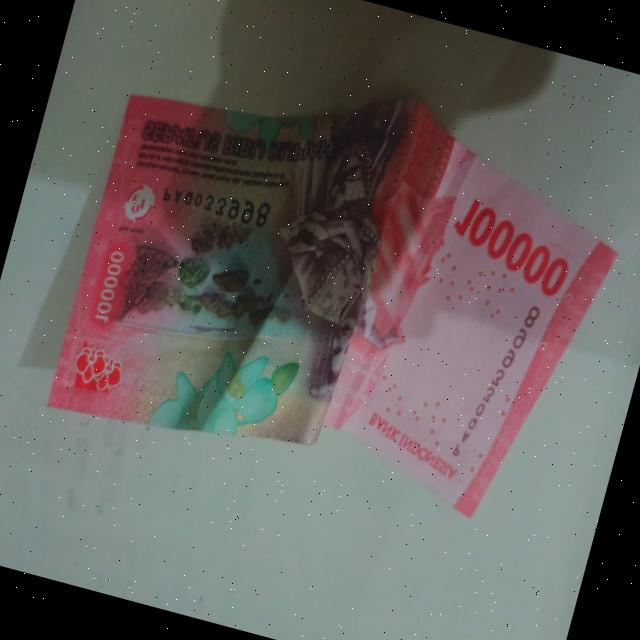100K: (43, 12, 640, 549)
